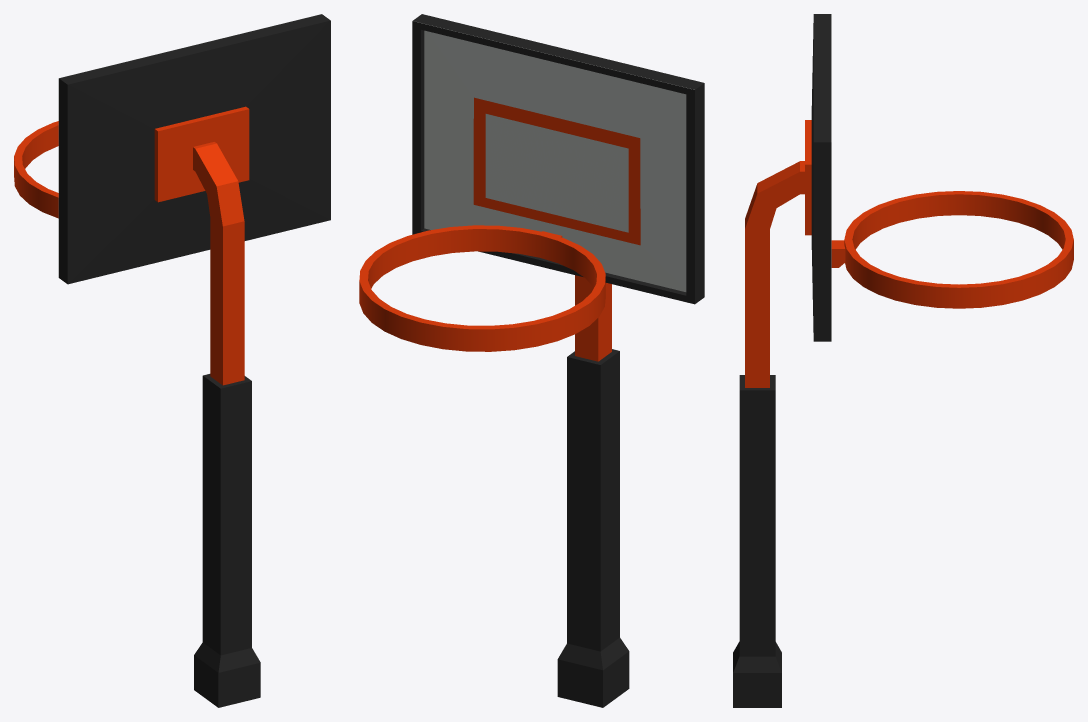
Rendered from Buyukpota.fbx.
The picture shows the model from 3 angles, left to right: view 1: azimuth 30°, elevation 25°; view 2: azimuth 150°, elevation 25°; view 3: azimuth 270°, elevation 25°; orthographic projection. The views are drawn at different scales.
Visible parts, largest first — view 1: Cylinder.001; view 2: Cylinder.001; view 3: Cylinder.001.
Part boxes in pixels (bbox=[...]): Cylinder.001: bbox=[14, 14, 330, 707]; Cylinder.001: bbox=[359, 14, 704, 707]; Cylinder.001: bbox=[733, 14, 1073, 707].
Bounding box in the file's own units: 218 × 492 × 245.
